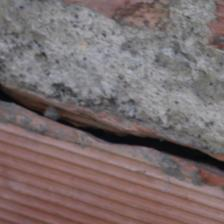Crack: (2, 37, 220, 138)
